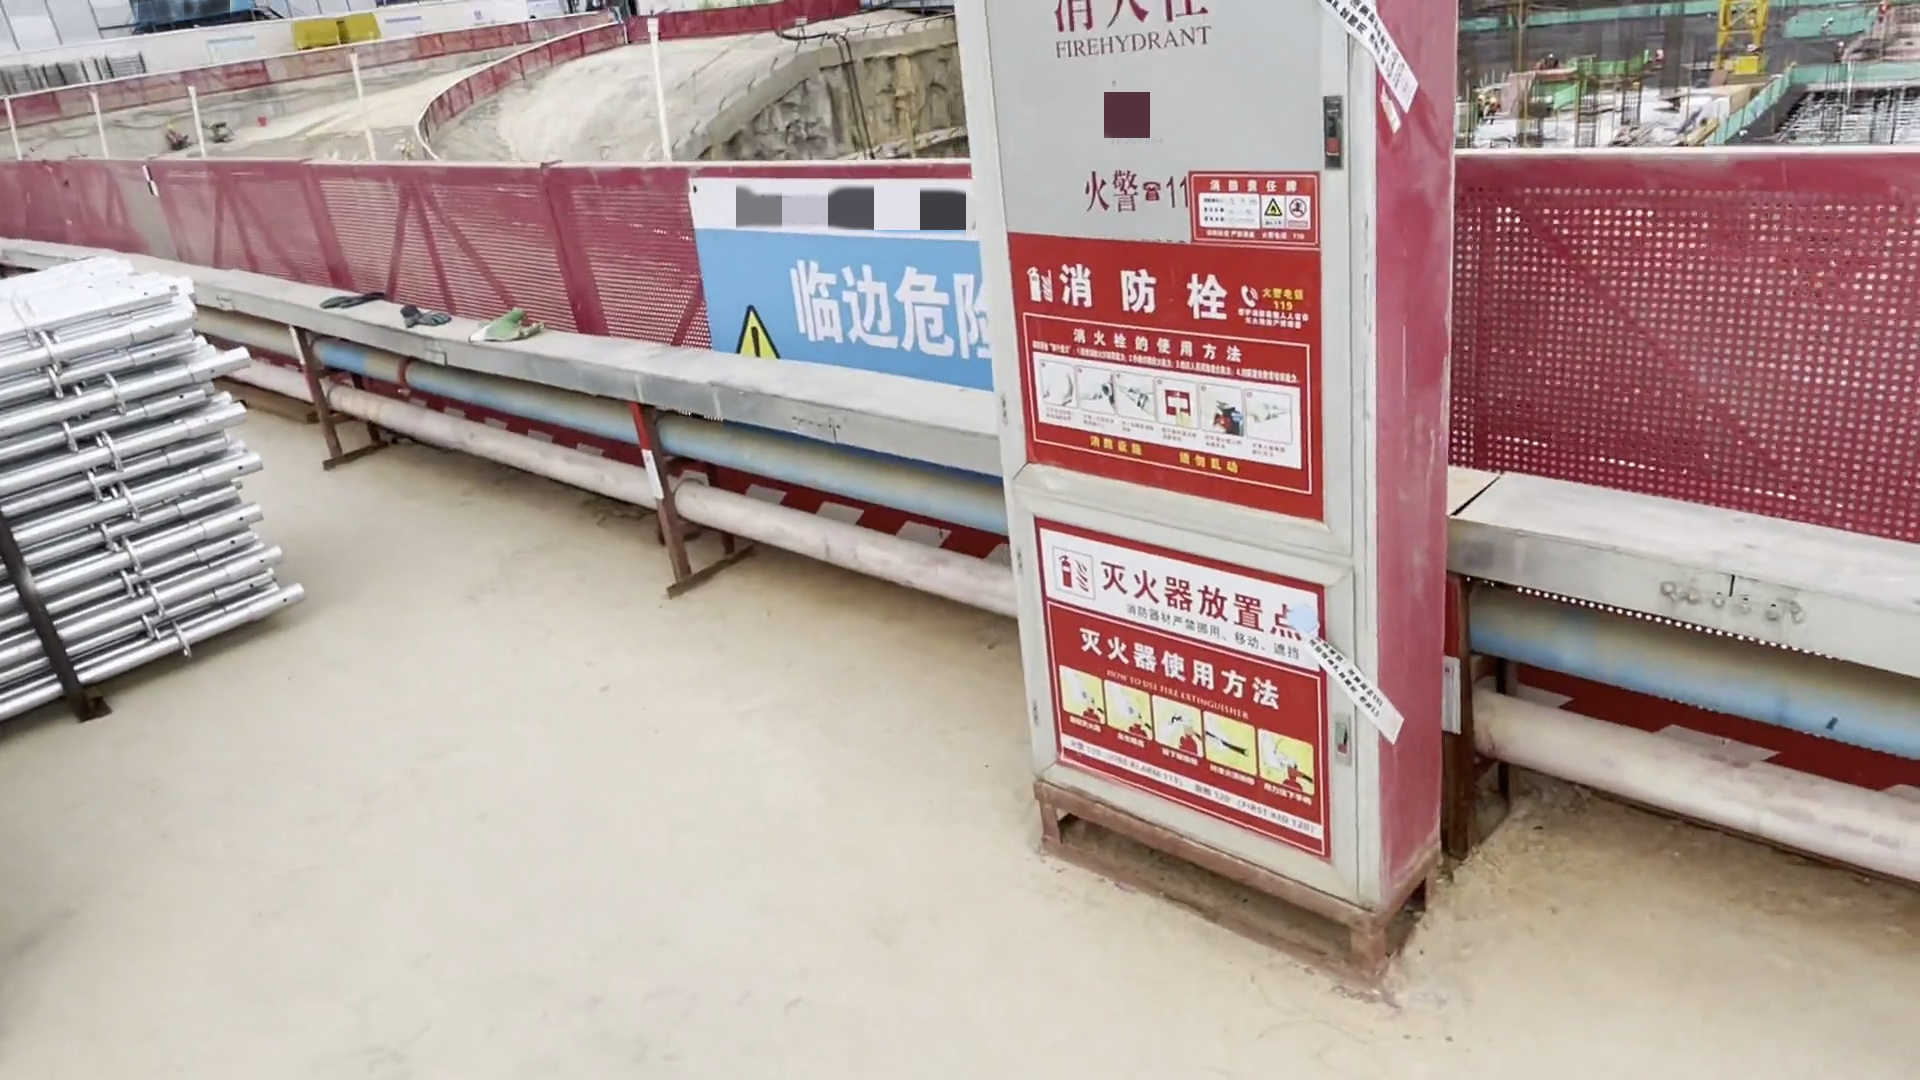fence: (1486, 141, 1920, 543), (320, 160, 696, 305), (7, 150, 345, 257)
scaffold: (1, 266, 311, 746)
slogan: (1033, 556, 1331, 829), (1022, 237, 1307, 476), (698, 224, 992, 378)
